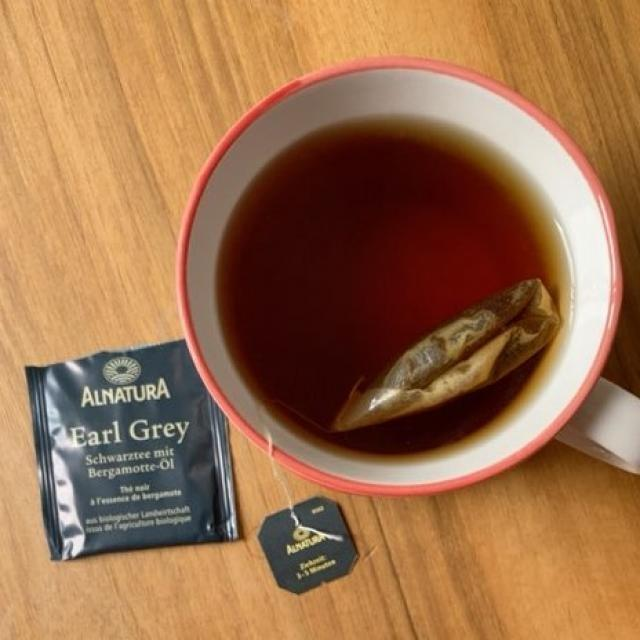tea: (230, 136, 555, 438)
